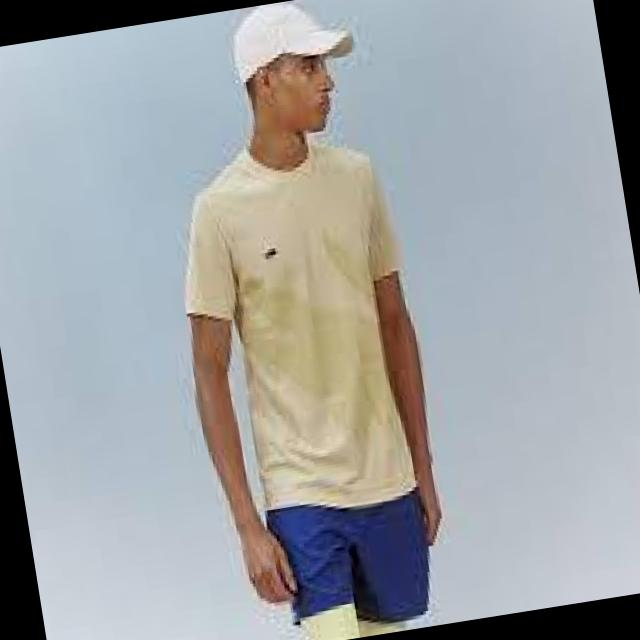Tshirt: (154, 129, 443, 536)
short: (247, 480, 451, 640)
